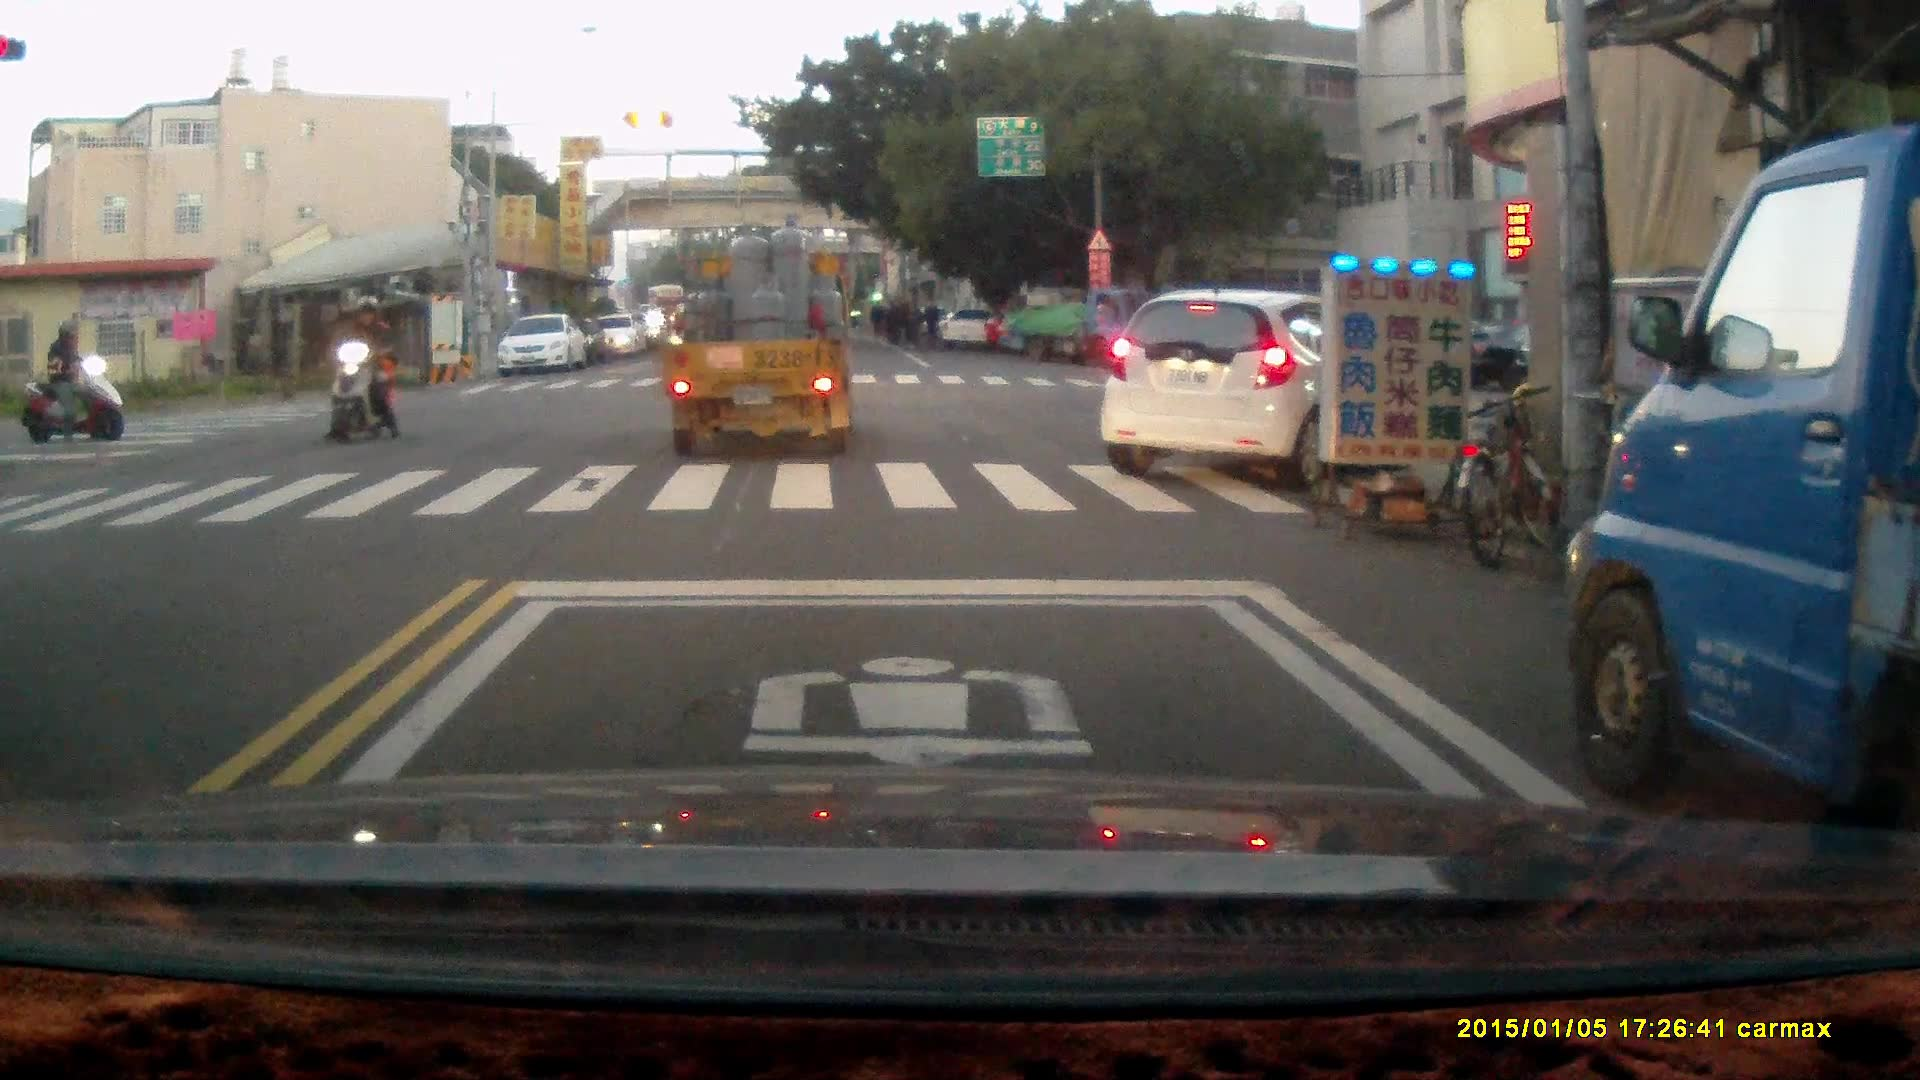rider: (13, 318, 122, 441), (322, 294, 399, 446)
vehicle: (1576, 132, 1920, 858), (1103, 290, 1398, 469), (660, 237, 857, 456), (1002, 284, 1170, 367), (500, 312, 588, 379), (592, 311, 642, 360)
